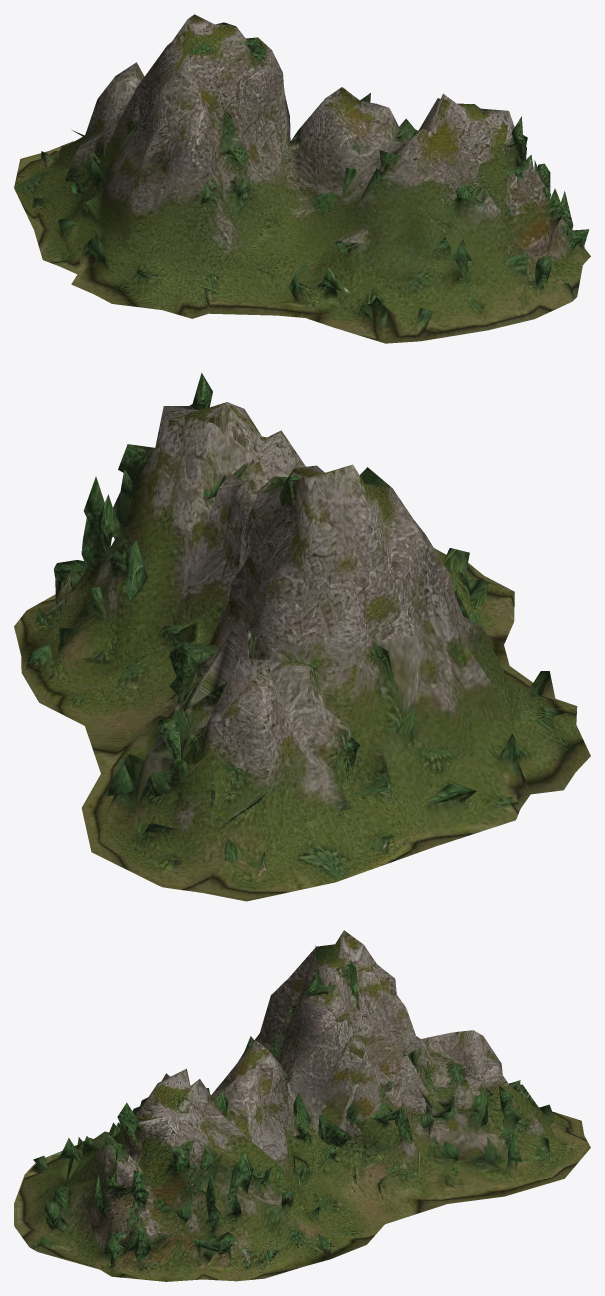
The model's file is mountain.glb.
3 views of the same model, one above another, from view 1: azimuth 30°, elevation 25°; view 2: azimuth 150°, elevation 25°; view 3: azimuth 270°, elevation 25° (orthographic). The views are drawn at different scales.
Parts seen in each view (by area): view 1: tripo_node_187f6392-4f22-476b-9088-931052318220; view 2: tripo_node_187f6392-4f22-476b-9088-931052318220; view 3: tripo_node_187f6392-4f22-476b-9088-931052318220.
Boxes of the visible parts, x1,y1,x2,y2 form: tripo_node_187f6392-4f22-476b-9088-931052318220: [14, 14, 590, 343]; tripo_node_187f6392-4f22-476b-9088-931052318220: [14, 373, 590, 901]; tripo_node_187f6392-4f22-476b-9088-931052318220: [14, 930, 590, 1281].
Size of the model in its own units: 0.8362 by 0.4062 by 1.
1 material, 1 textured.
